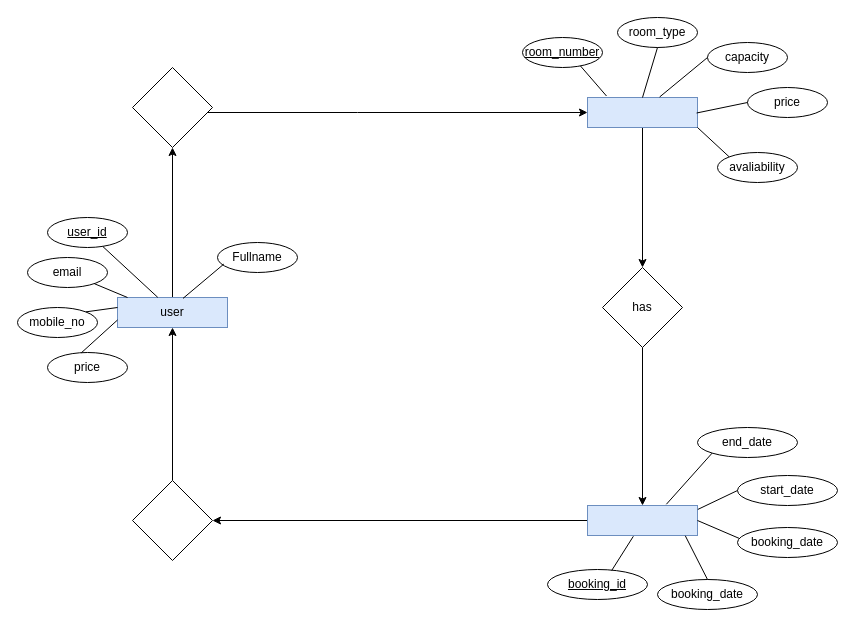
This 855x627 diagram has some shape labels left out. Here are the shapes that lost their labels. From the top down, the box of each, then its label:
(132, 66, 212, 148): books
(586, 96, 698, 128): Rooms
(132, 480, 212, 560): assigned to
(586, 504, 698, 536): Bookings
